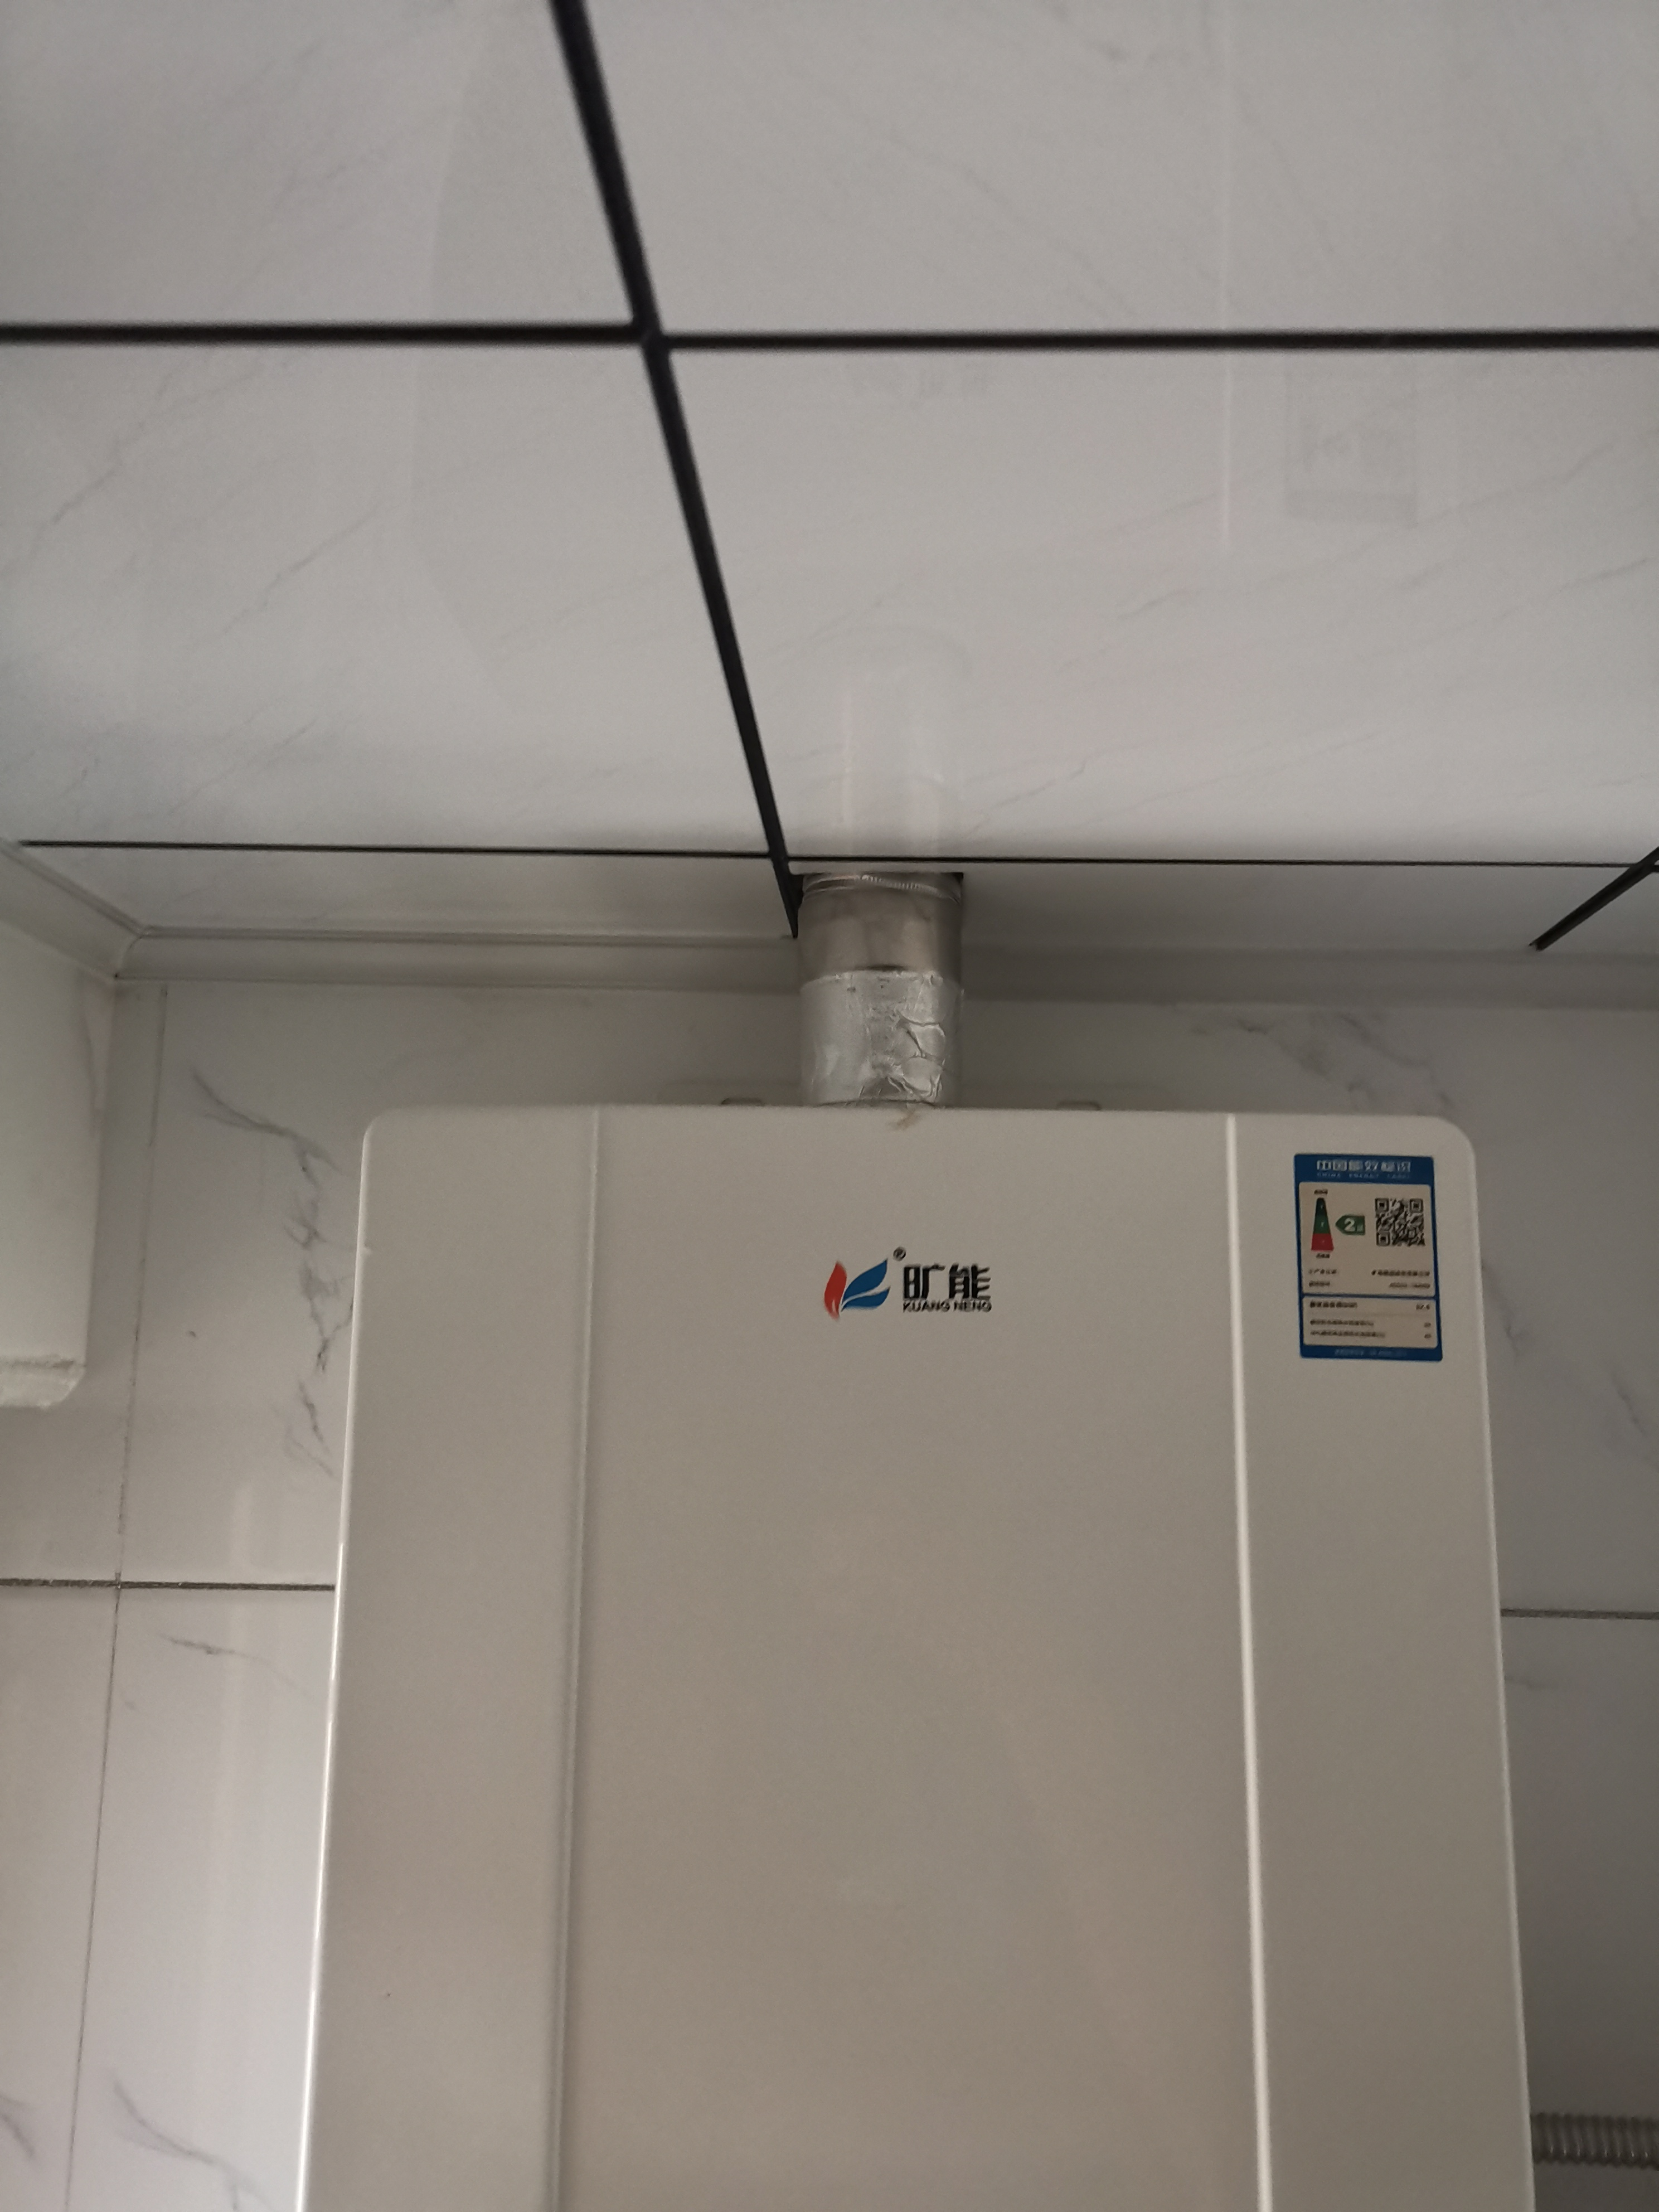loudou: (821, 1237, 1014, 1332)
